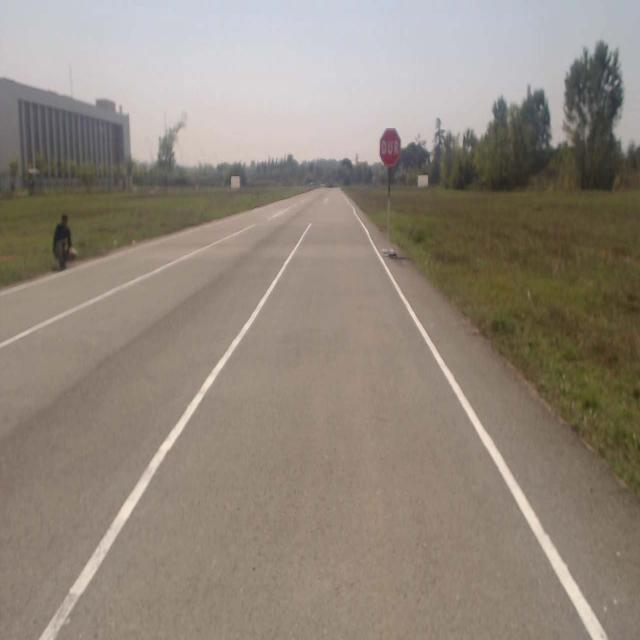dur: (380, 128, 401, 166)
